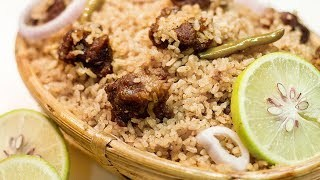tehari: (16, 1, 320, 178)
